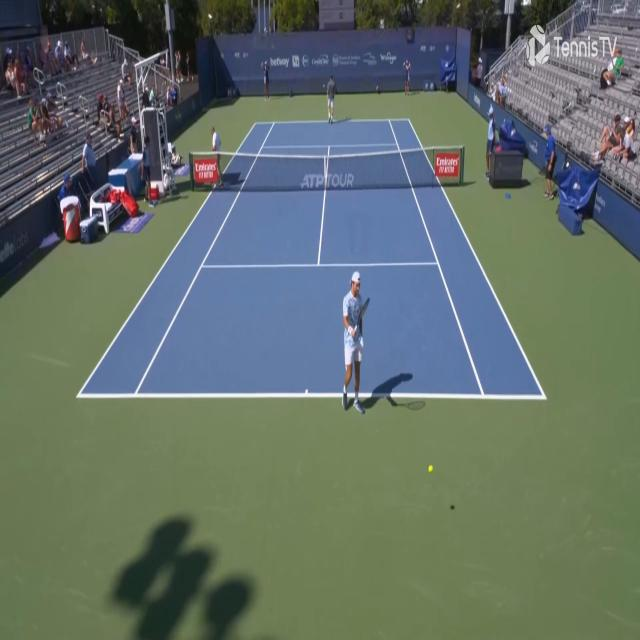tennis-player: (341, 269, 369, 416), (324, 74, 337, 124)
